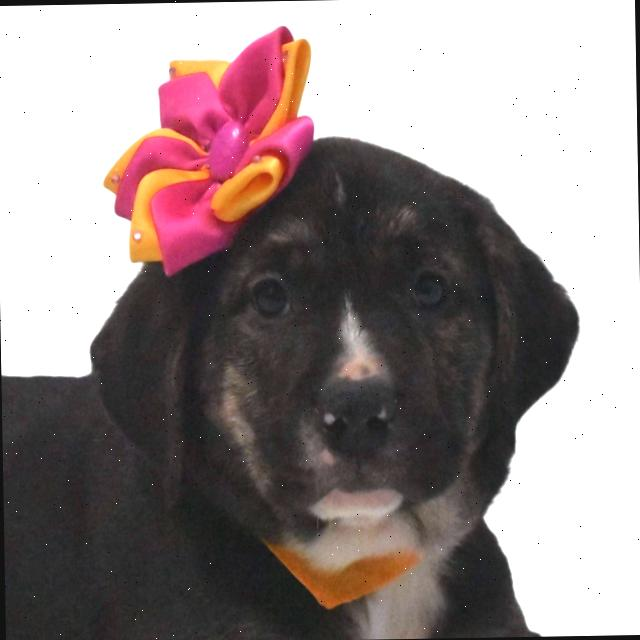golden_retriever_dog: (52, 105, 600, 595)
